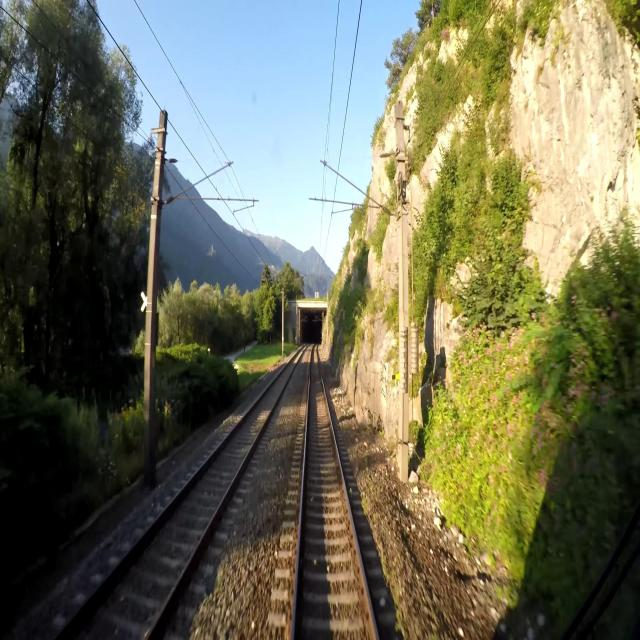rail-track: (59, 353, 299, 639), (294, 348, 374, 639)
